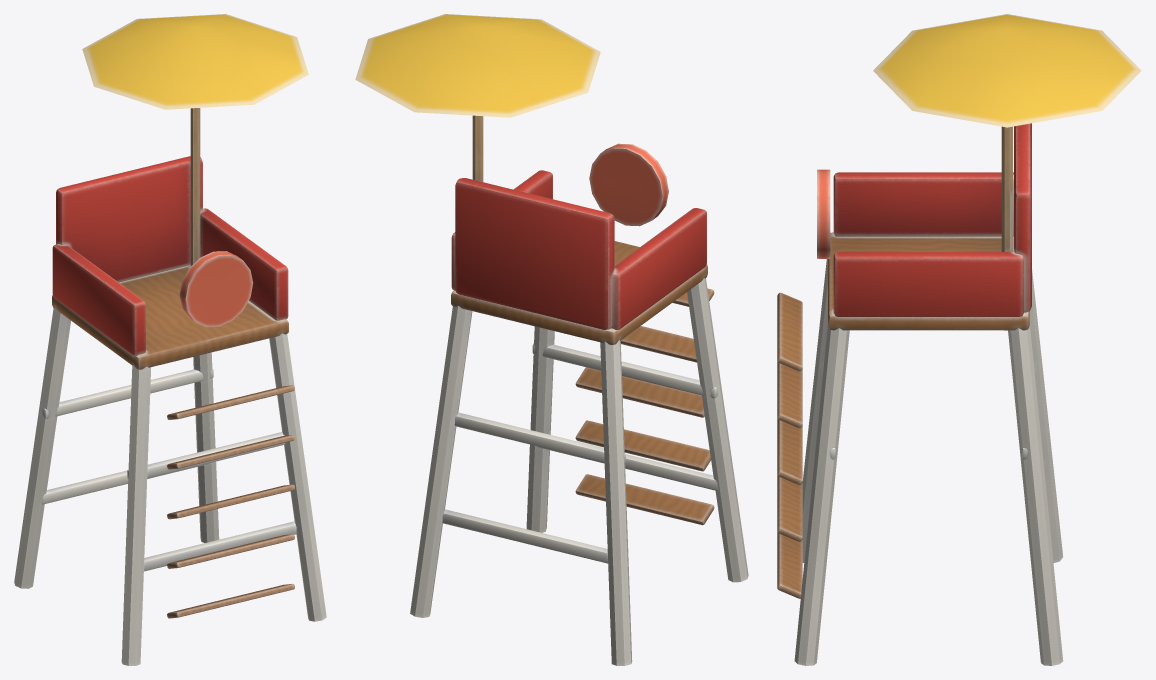
Rendered from dress_lifeguard.glb.
3 renders of one model, left to right at view 1: azimuth 30°, elevation 25°; view 2: azimuth 150°, elevation 25°; view 3: azimuth 270°, elevation 25°, orthographic. The views are drawn at different scales.
Parts seen in each view (by area): view 1: SM_DressLifeguard; view 2: SM_DressLifeguard; view 3: SM_DressLifeguard.
Boxes of the visible parts, x1,y1,x2,y2 form: SM_DressLifeguard: (14,14,326,665); SM_DressLifeguard: (355,14,748,665); SM_DressLifeguard: (777,14,1141,665).
Size of what is drawn, in the model's own units: 1.55 by 3.03 by 1.63.
1 material, 1 textured.
